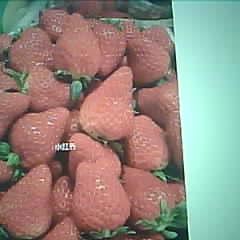straw-ripe: (80, 67, 135, 136), (73, 163, 129, 230), (1, 166, 53, 238), (11, 108, 68, 165), (54, 14, 98, 78)
